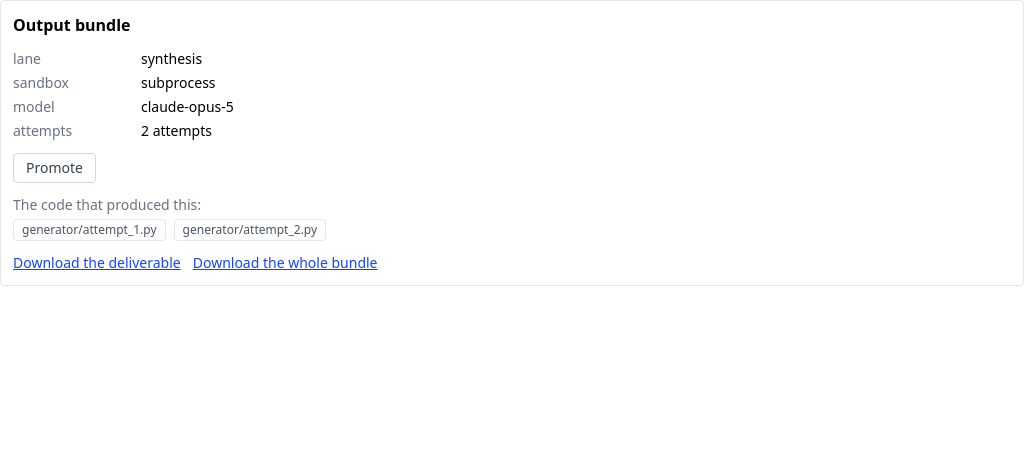
shows why a promotion was refused
Click the button "Promote" at (54, 168), box [13, 153, 96, 183]
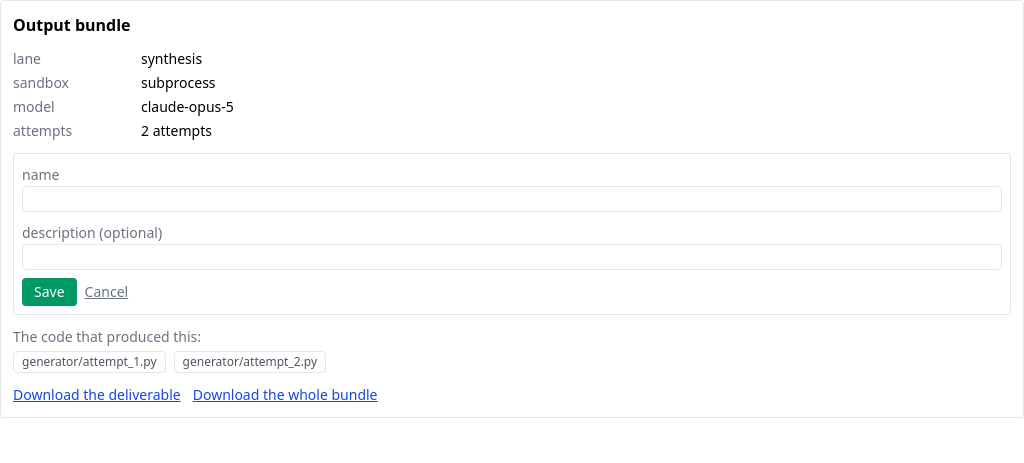
Type "universe_check" into the field labelled "name" at (512, 199), box [22, 186, 1002, 212]
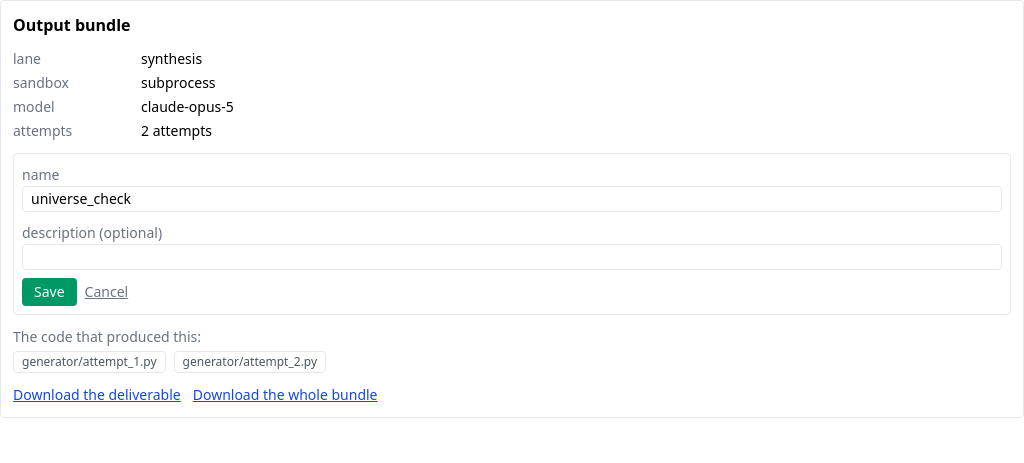
Click the button "Save" at (49, 292), box [22, 278, 77, 306]
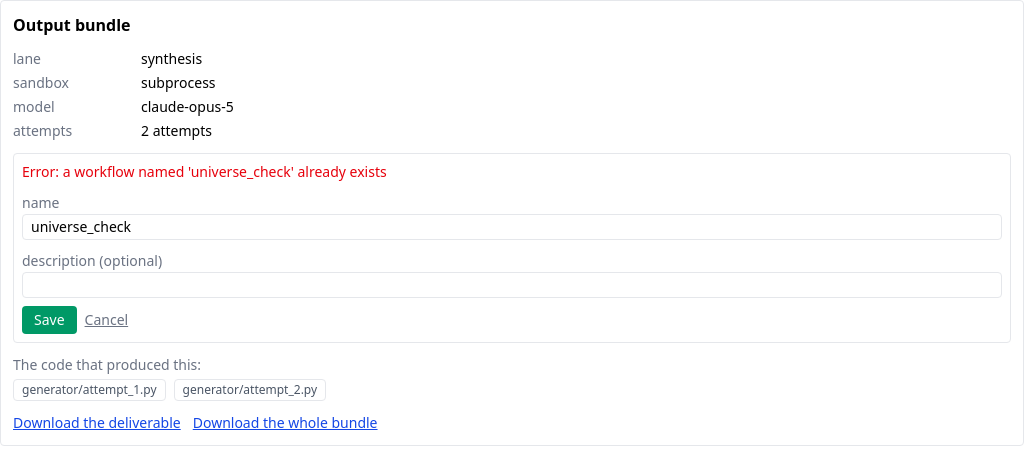
Expected: the text "Error: a workflow named 'universe_check' already exists" is shown, [22, 162, 387, 181]
